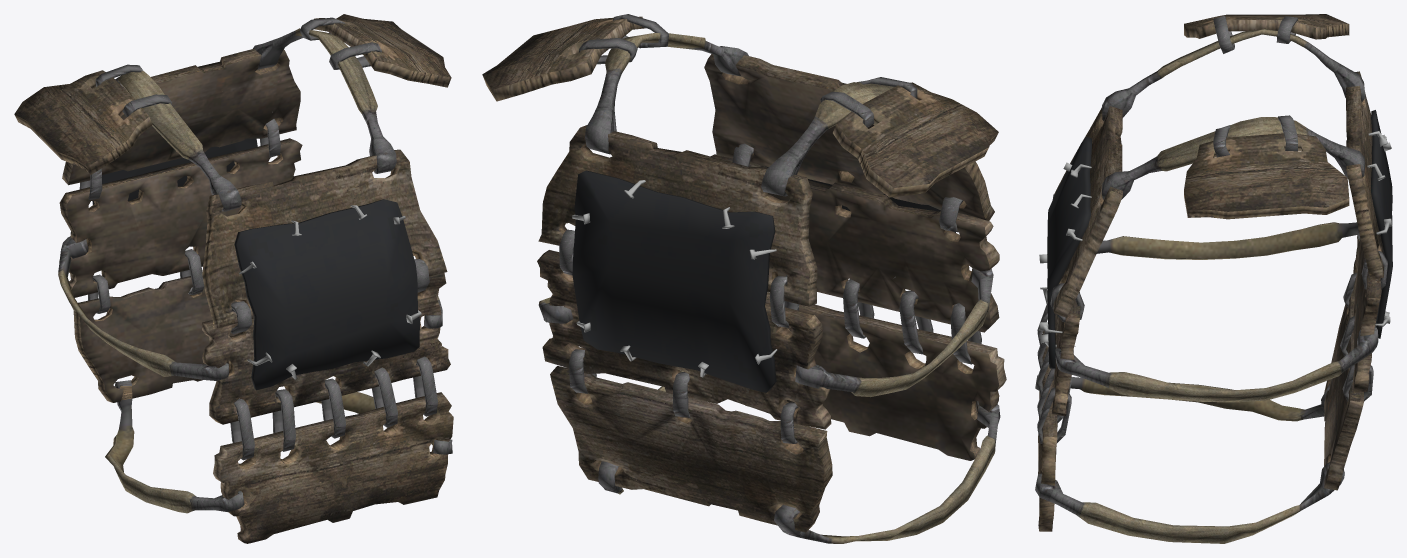
Rendered from SurvivorMale_Armor_Craftablel_LOD0.glb.
3 renders of one model, left to right at view 1: azimuth 30°, elevation 25°; view 2: azimuth 150°, elevation 25°; view 3: azimuth 270°, elevation 25°, orthographic. The views are drawn at different scales.
Parts seen in each view (by area): view 1: Hoodie; view 2: Hoodie; view 3: Hoodie.
Part boxes in pixels (x1=…): Hoodie: x1=14, y1=14, x2=453, y2=543; Hoodie: x1=482, y1=14, x2=1006, y2=543; Hoodie: x1=1035, y1=14, x2=1392, y2=543.
Bounding box in the file's own units: 0.4867 × 0.4726 × 0.3722.
1 material, 1 textured.
